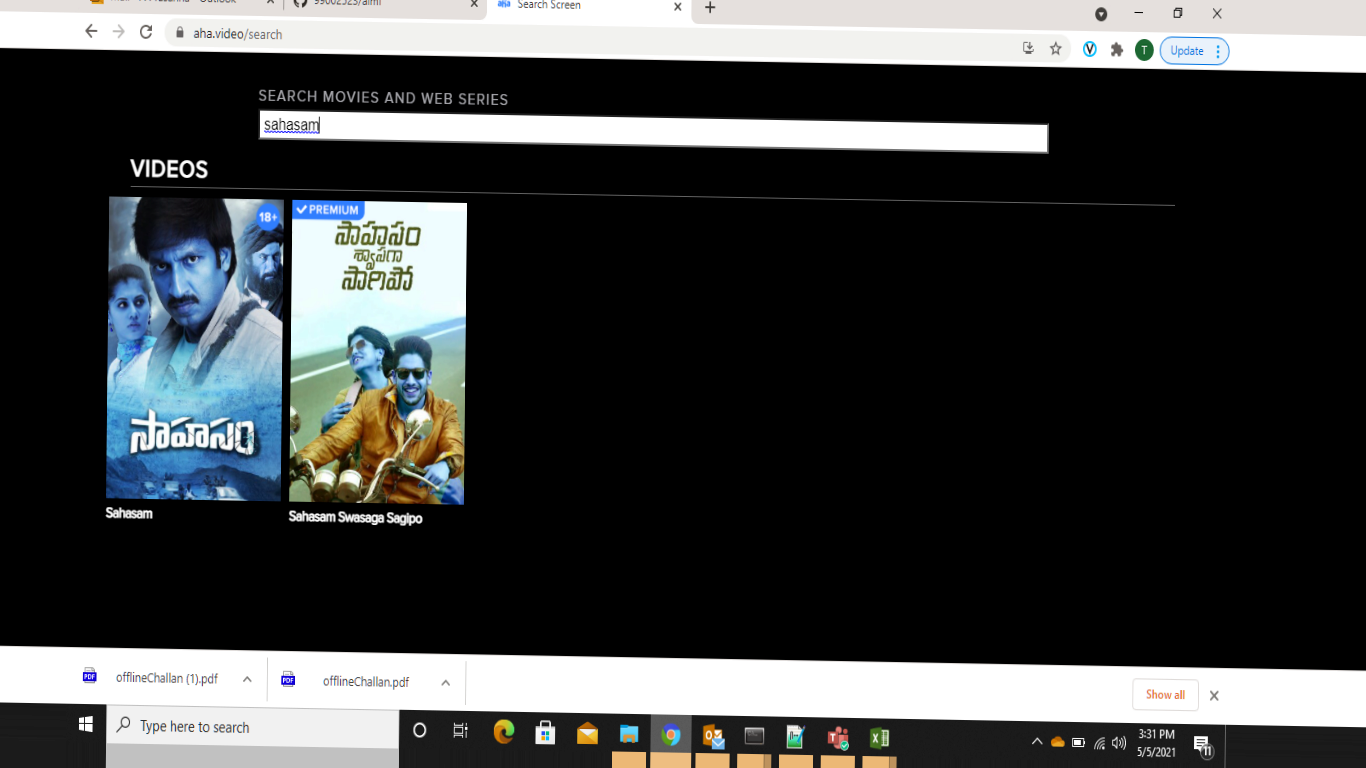resultsfound: (100, 129, 1118, 198)
searchtextbox: (245, 85, 1063, 172)
